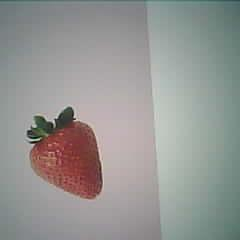straw-ripe: (27, 120, 103, 200)
